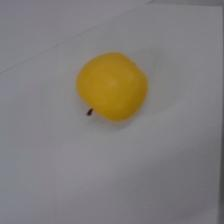yellow: (73, 49, 151, 125)
